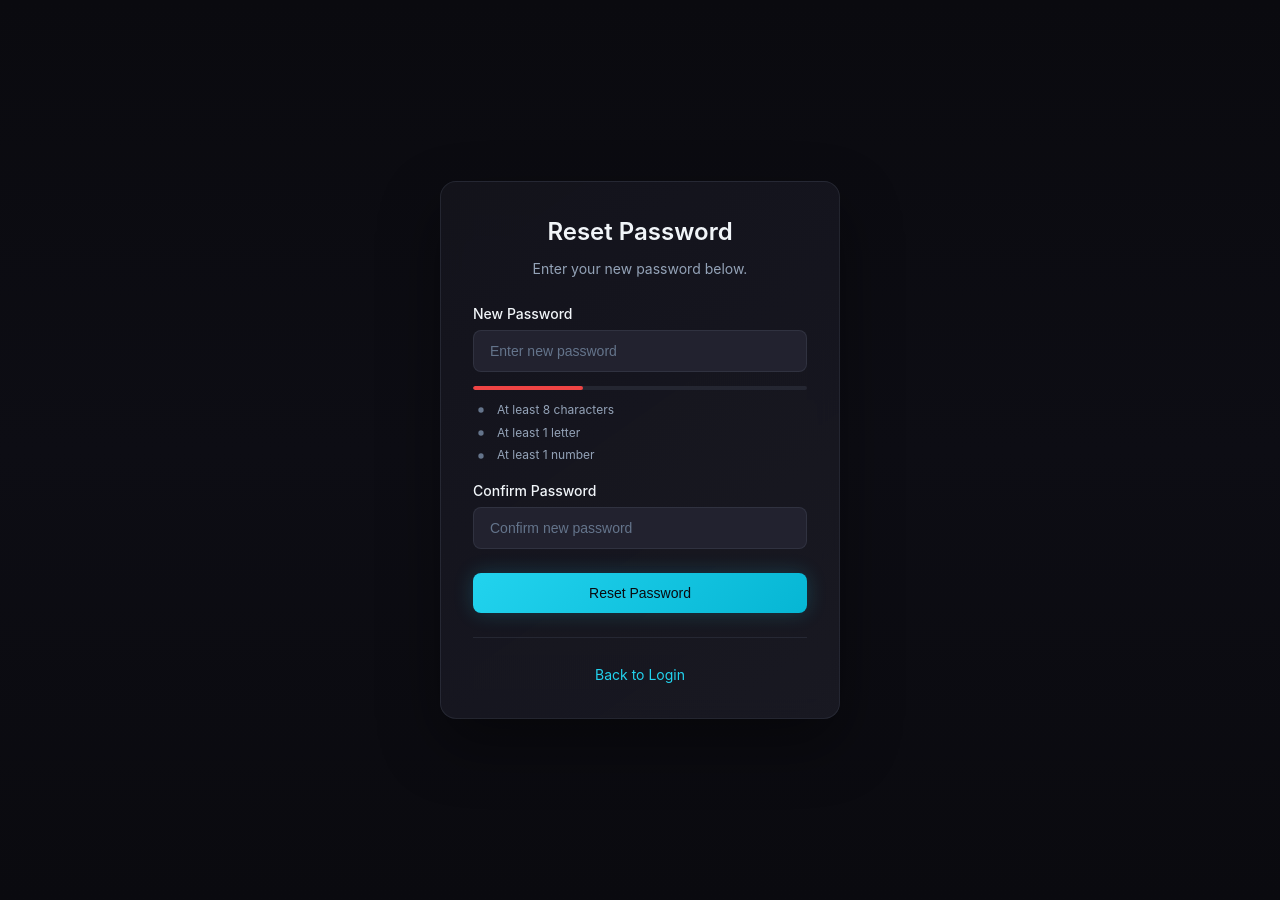
ResetPassword Page › should show success message after reset
Enter valid password
Step 1. Type "ValidPassword123" into the password field with test id "new-password-input" → (640,351), box x1=473 y1=330 x2=807 y2=372
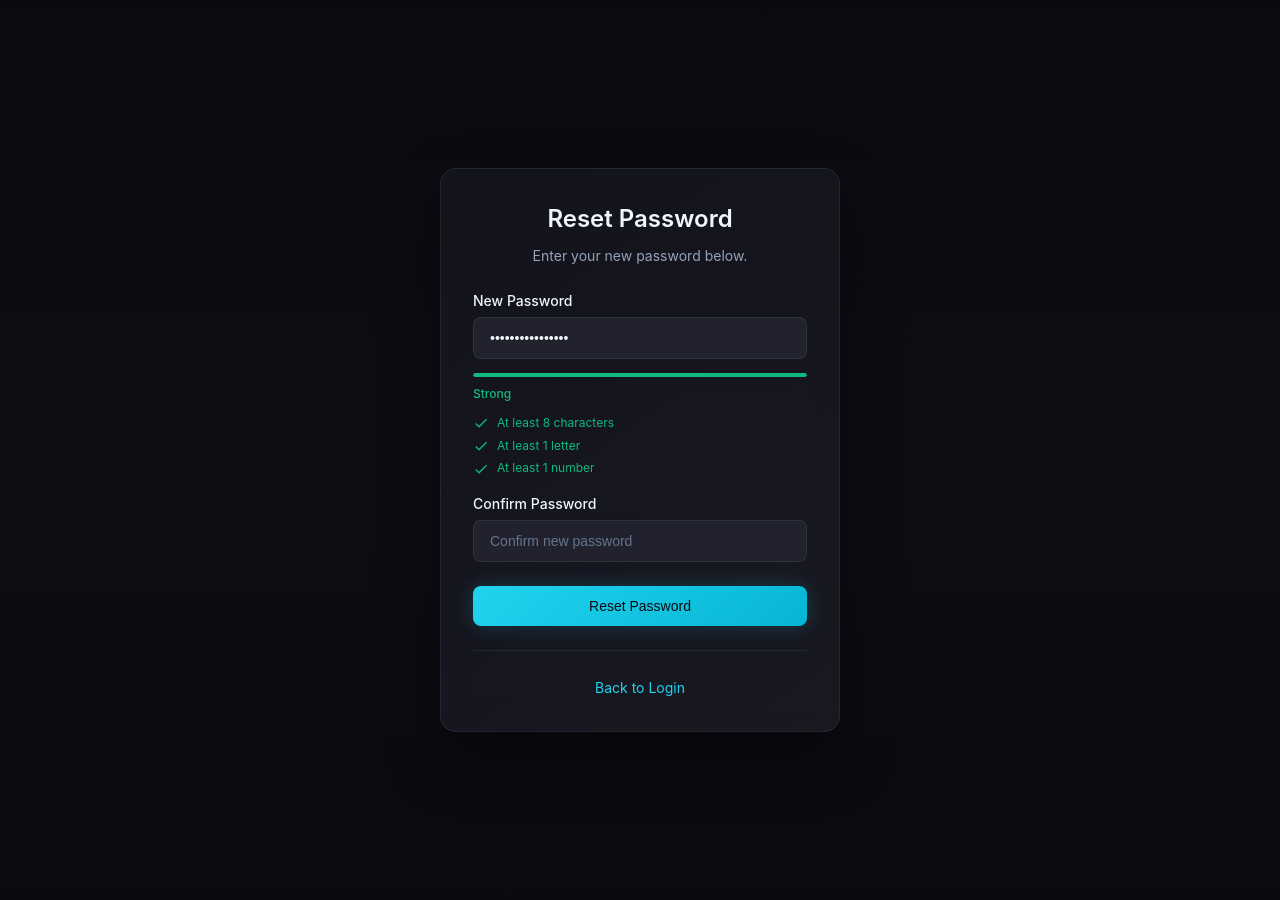
Step 2. Type "ValidPassword123" into the password field with test id "confirm-password-input" → (640,541), box x1=473 y1=520 x2=807 y2=562
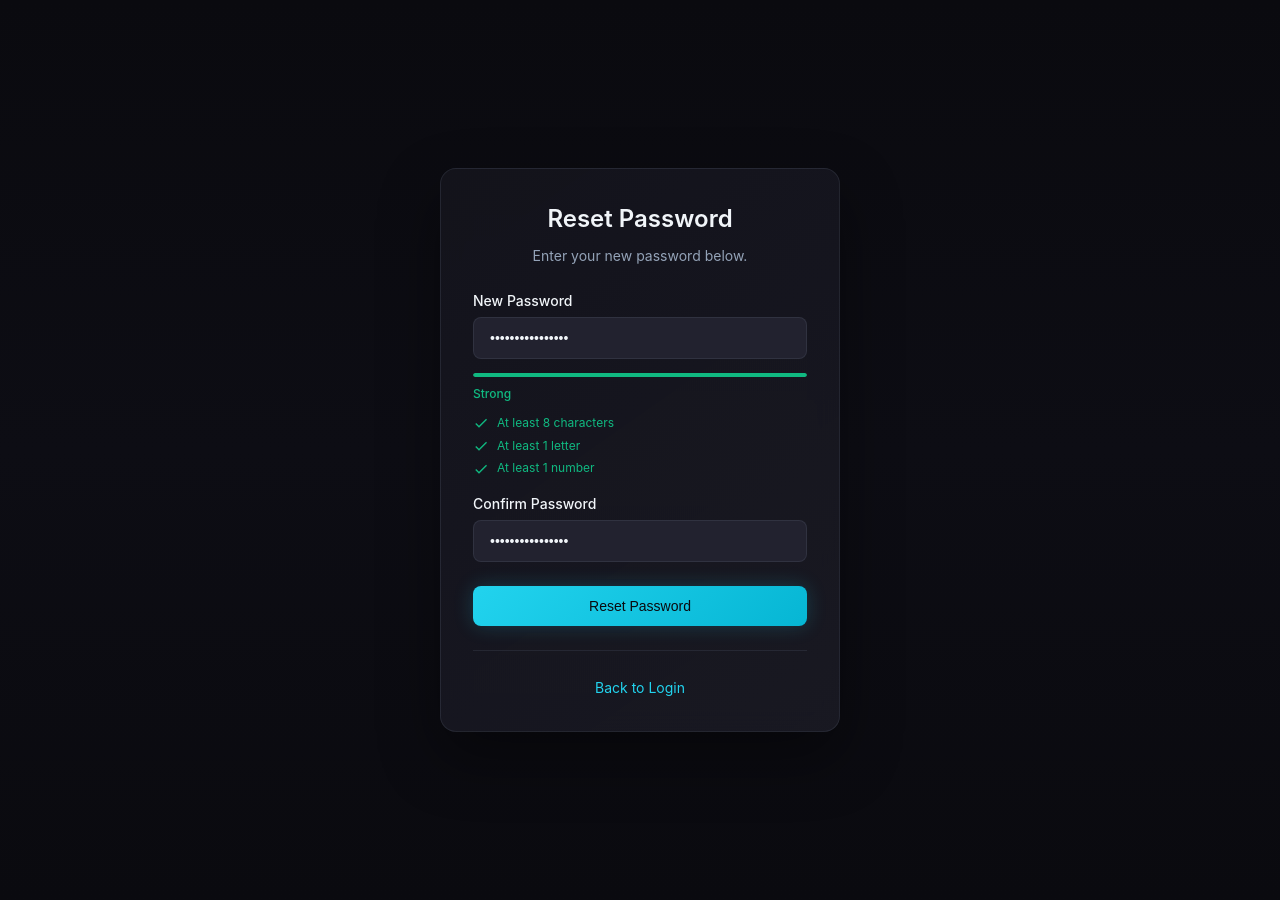
Submit form
Step 3. Click the button with test id "reset-password-submit" → (640,606), box x1=473 y1=586 x2=807 y2=626
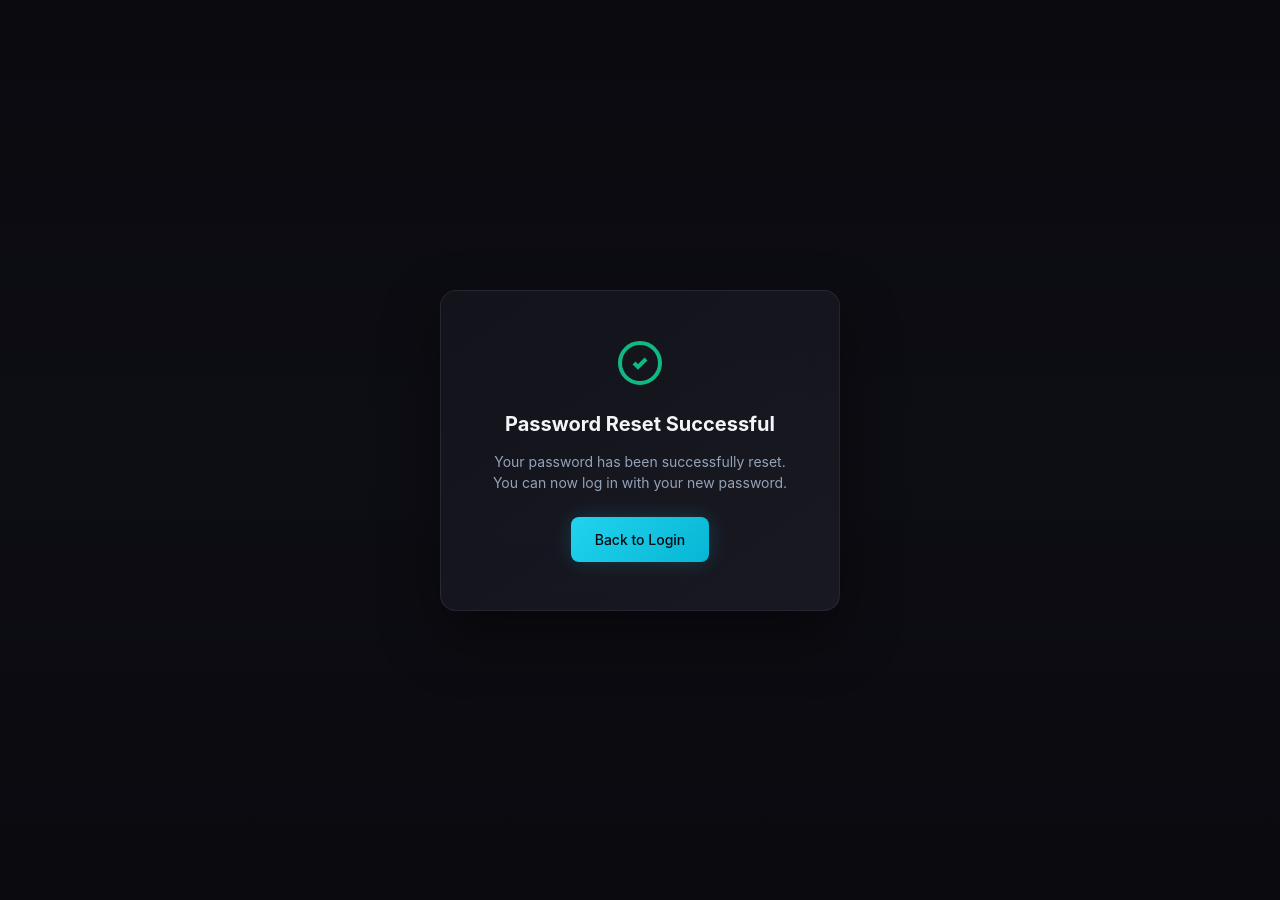
Expected: the link with test id "back-to-login" is shown, x1=571 y1=516 x2=709 y2=562
Expected: the element with test id "reset-password-success" is shown
Expected: the heading "Password Reset Successful" is shown, x1=489 y1=408 x2=791 y2=438
